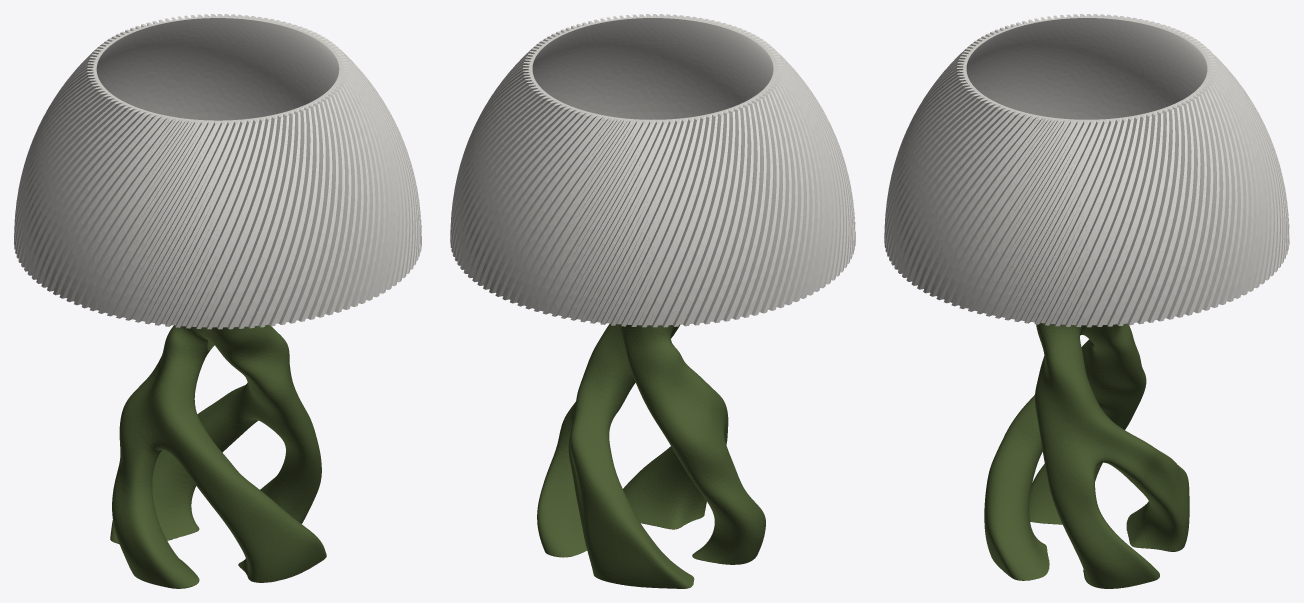
Rendered from luminaria-mangue.glb.
3 views of the same model, side by side, from view 1: azimuth 30°, elevation 25°; view 2: azimuth 150°, elevation 25°; view 3: azimuth 270°, elevation 25° (orthographic).
Parts seen in each view (by area): view 1: cupula, base; view 2: cupula, base; view 3: cupula, base.
Part boxes in pixels (box(x1,y1,x2,y2)): cupula: box(14, 14, 421, 329); base: box(110, 324, 326, 588); cupula: box(450, 14, 855, 327); base: box(537, 323, 765, 588); cupula: box(884, 14, 1289, 327); base: box(984, 323, 1189, 588).
Size of the model in its own units: 2 by 2.59 by 2.
